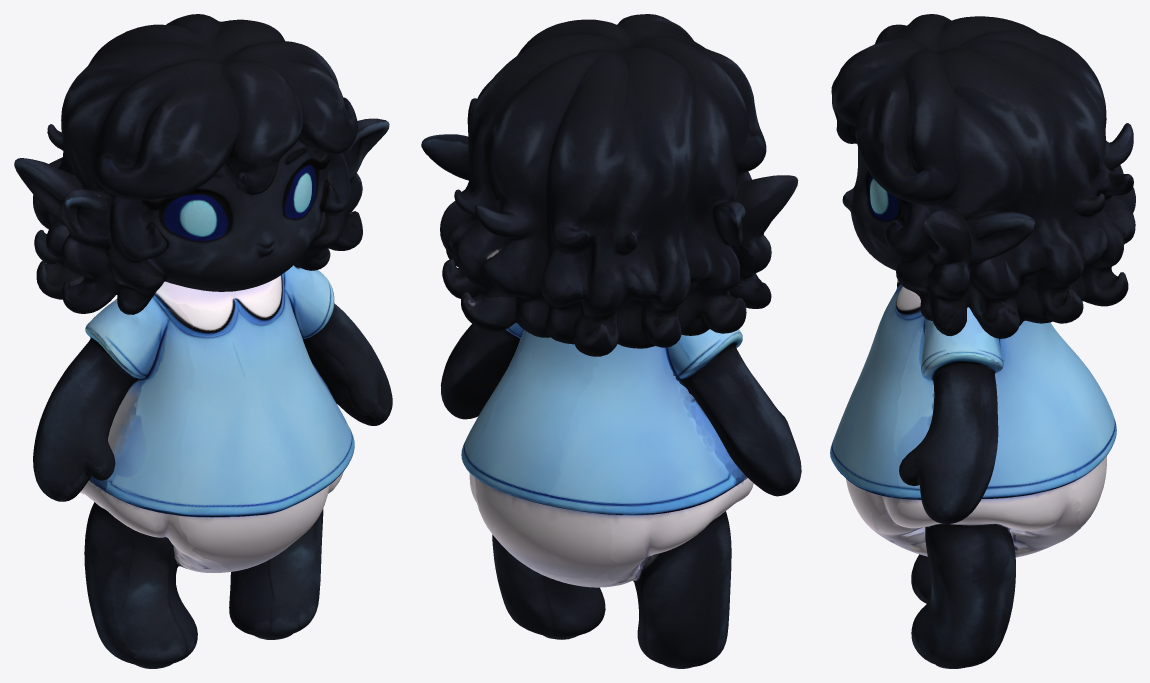
Rendered from kaskit.glb.
3 views of the same model, side by side, from view 1: azimuth 30°, elevation 25°; view 2: azimuth 150°, elevation 25°; view 3: azimuth 270°, elevation 25° (orthographic).
Visible parts, largest first — view 1: temp_mesh.ply; view 2: temp_mesh.ply; view 3: temp_mesh.ply.
Boxes of the visible parts, x1,y1,x2,y2 form: temp_mesh.ply: (14,14,392,668); temp_mesh.ply: (421,14,801,668); temp_mesh.ply: (830,14,1135,668).
Size of the model in its own units: 1.2 by 1.97 by 0.923.
Materials: 1 (1 with a texture image).
